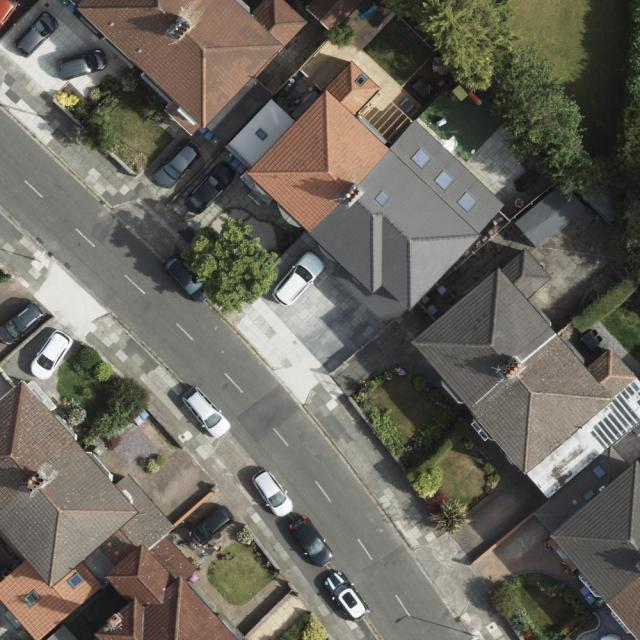roof: (72, 0, 505, 330), (411, 244, 640, 640), (0, 379, 240, 640), (306, 0, 359, 32)
skylight: (431, 166, 459, 194), (455, 189, 480, 216), (409, 145, 435, 170), (373, 189, 391, 207), (253, 126, 270, 144), (23, 591, 40, 608), (592, 464, 608, 481), (67, 573, 84, 588), (583, 488, 597, 502), (355, 74, 368, 87)
